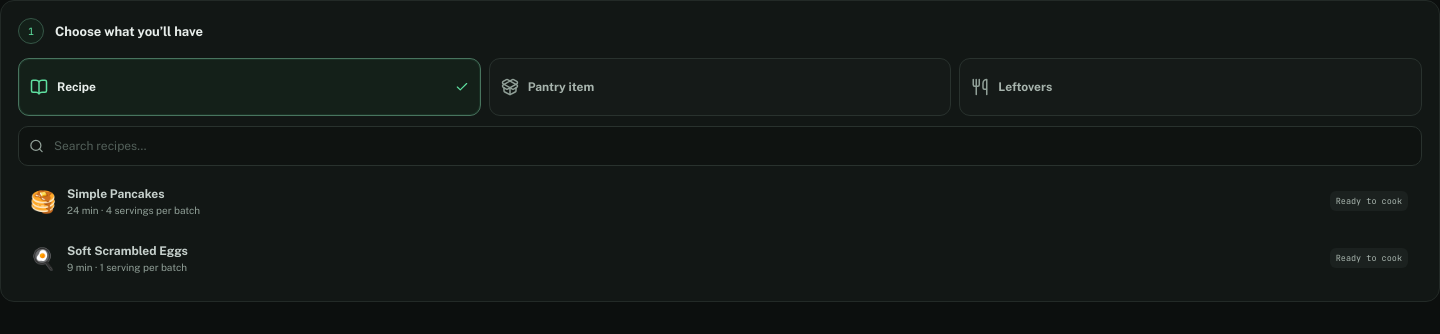
leftover planning › can plan an exact cooked batch after its original plan is gone, using actual yield nutrition and cost
Click the tab "Leftovers": (1025, 87) [959,58,1422,116]
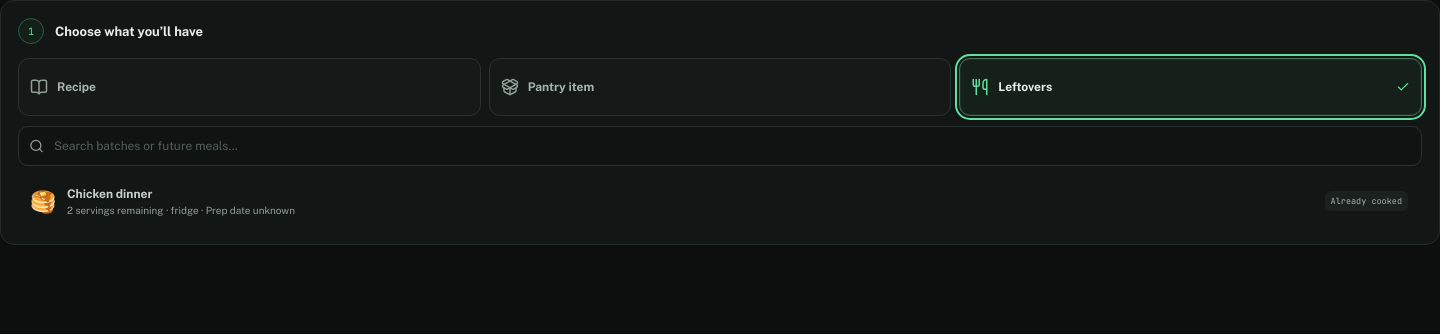
Click the option "Chicken dinner": (110, 194) [18,175,1419,227]
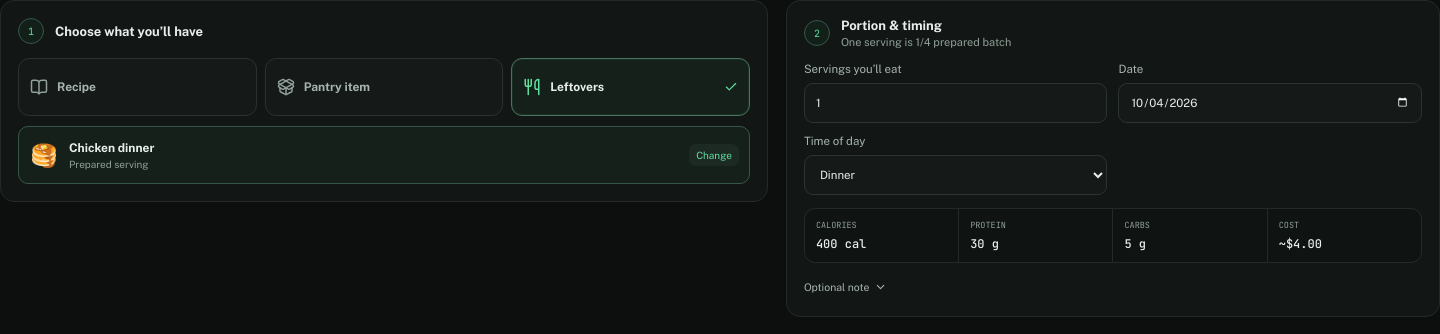
Result: the text "400 cal" is shown at [816,236,866,252]
Result: the text "~$4.00" is shown at [1279,236,1322,252]
Replace the text in the number field labelled "Servings you’ll eat" with "0.5": (956, 103) [804,83,1108,123]
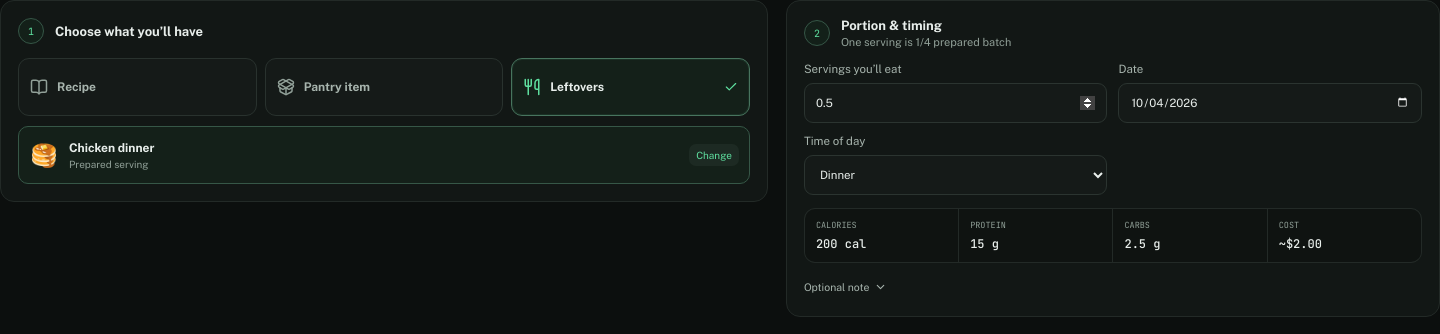
Result: the text "200 cal" is shown at [816,236,866,252]
Result: the text "~$2.00" is shown at [1279,236,1322,252]
